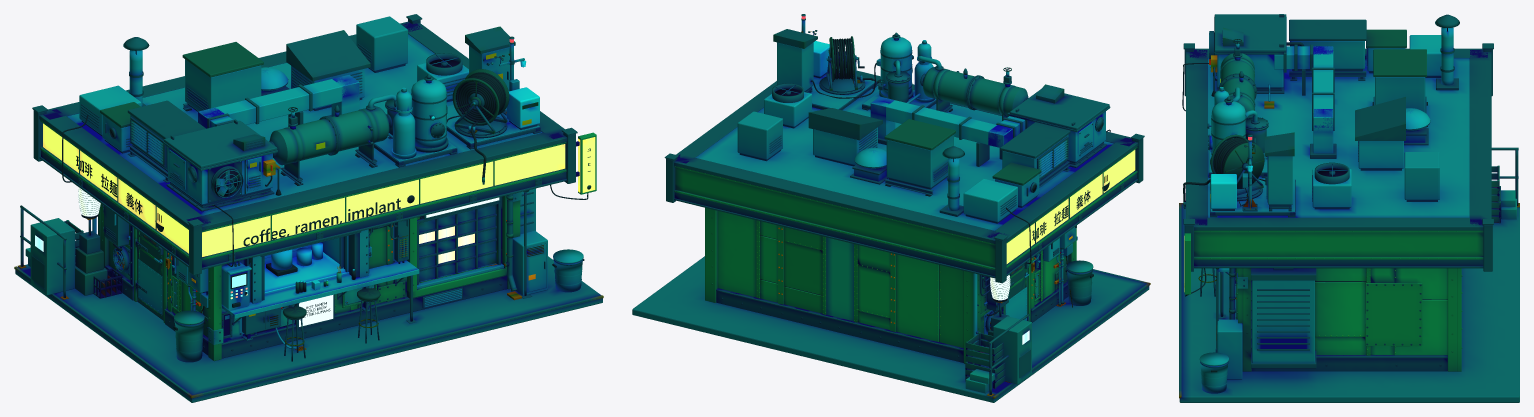
File: kiosk_detail.glb
3 renders of one model, left to right at view 1: azimuth 30°, elevation 25°; view 2: azimuth 150°, elevation 25°; view 3: azimuth 270°, elevation 25°, orthographic. The views are drawn at different scales.
Visible parts, largest first — view 1: SM_Kiosk_Roof, SM_Kiosk_Canopy, SM_Kiosk_Ground, SM_Kiosk_ServiceSide, SM_Kiosk_Props, SM_Kiosk_Structure, SM_Kiosk_Construction, SM_Kiosk_Body, SM_Kiosk_DoorSide, SM_Kiosk_Utilities; view 2: SM_Kiosk_Roof, SM_Kiosk_Canopy, SM_Kiosk_Body, SM_Kiosk_Ground, SM_Kiosk_Structure, SM_Kiosk_Props, SM_Kiosk_DoorSide, SM_Kiosk_Construction, SM_Kiosk_Utilities; view 3: SM_Kiosk_Canopy, SM_Kiosk_Roof, SM_Kiosk_Ground, SM_Kiosk_Structure, SM_Kiosk_Body, SM_Kiosk_Props, SM_Kiosk_Utilities, SM_Kiosk_Construction.
Boxes of the visible parts, bbox=[...] form: SM_Kiosk_Roof: bbox=[79, 16, 540, 211]; SM_Kiosk_Canopy: bbox=[32, 14, 596, 275]; SM_Kiosk_Ground: bbox=[14, 255, 603, 402]; SM_Kiosk_ServiceSide: bbox=[221, 197, 503, 328]; SM_Kiosk_Props: bbox=[18, 187, 584, 362]; SM_Kiosk_Structure: bbox=[98, 188, 535, 361]; SM_Kiosk_Construction: bbox=[78, 178, 541, 351]; SM_Kiosk_Body: bbox=[108, 197, 502, 341]; SM_Kiosk_DoorSide: bbox=[134, 228, 167, 322]; SM_Kiosk_Utilities: bbox=[62, 115, 588, 351]; SM_Kiosk_Roof: bbox=[737, 14, 1110, 223]; SM_Kiosk_Canopy: bbox=[664, 67, 1144, 283]; SM_Kiosk_Body: bbox=[718, 211, 1068, 347]; SM_Kiosk_Ground: bbox=[632, 256, 1150, 402]; SM_Kiosk_Structure: bbox=[705, 207, 1076, 363]; SM_Kiosk_Props: bbox=[965, 225, 1093, 396]; SM_Kiosk_DoorSide: bbox=[1003, 260, 1030, 321]; SM_Kiosk_Construction: bbox=[711, 183, 1124, 357]; SM_Kiosk_Utilities: bbox=[976, 129, 1110, 333]; SM_Kiosk_Canopy: bbox=[1183, 43, 1493, 294]; SM_Kiosk_Roof: bbox=[1183, 14, 1459, 217]; SM_Kiosk_Ground: bbox=[1179, 203, 1519, 402]; SM_Kiosk_Structure: bbox=[1236, 268, 1461, 371]; SM_Kiosk_Body: bbox=[1251, 268, 1447, 355]; SM_Kiosk_Props: bbox=[1198, 147, 1519, 393]; SM_Kiosk_Utilities: bbox=[1182, 42, 1303, 319]; SM_Kiosk_Construction: bbox=[1235, 273, 1462, 366].
Bounding box in the file's own units: 7.36 × 4.24 × 5.41.
